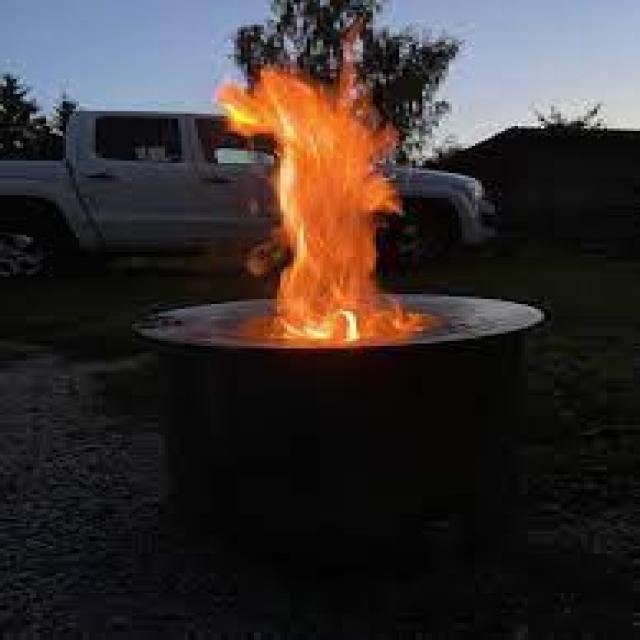fire: (216, 66, 423, 344)
